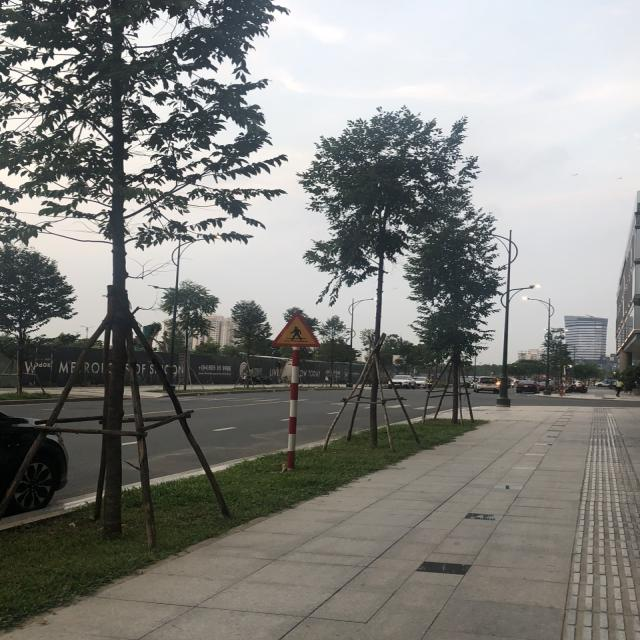Bien bao duong nguoi di bo cat ngang: (270, 309, 324, 353)
